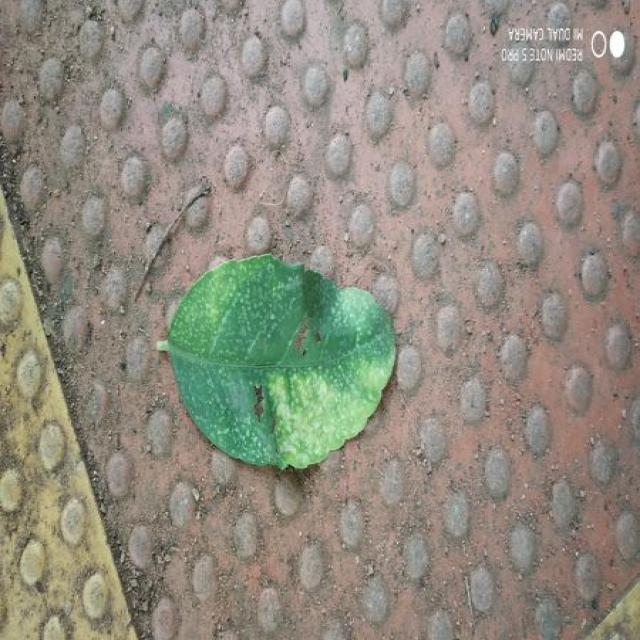CVC: (163, 254, 395, 469)
